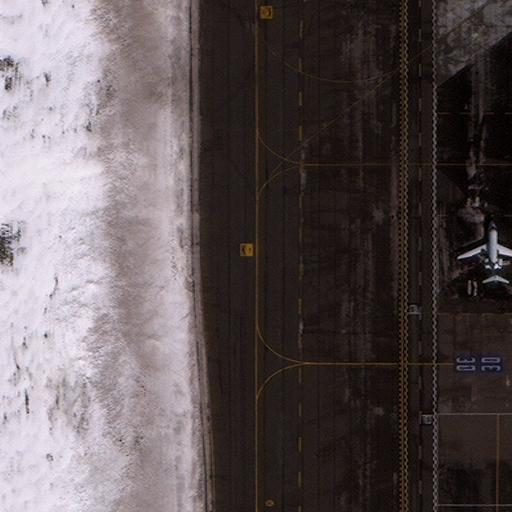Medium Civil Transport: (461, 223, 512, 280)
